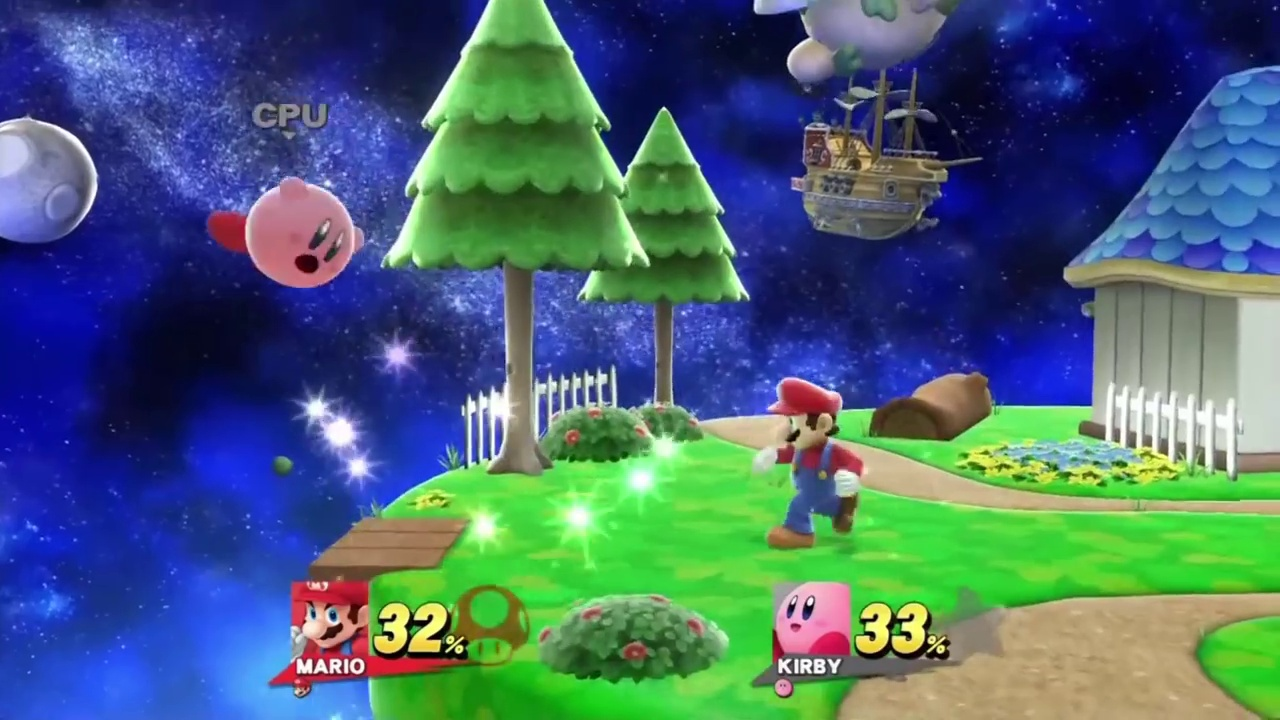Mario: (754, 378, 860, 553)
